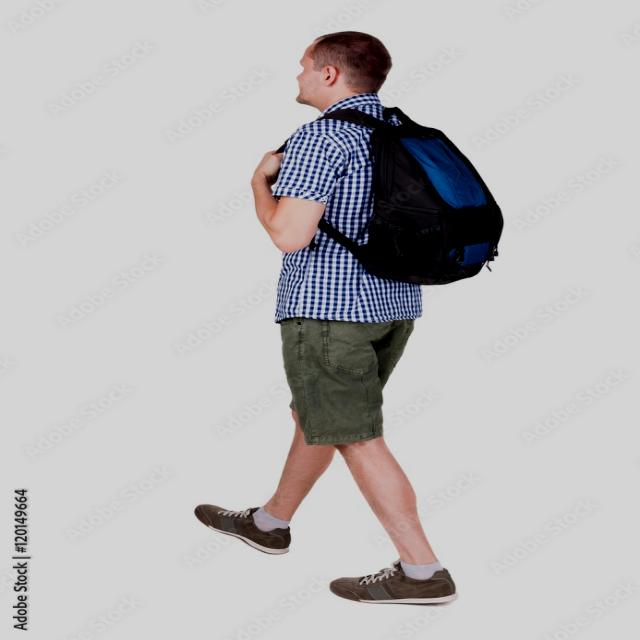backpack: (283, 106, 507, 287)
